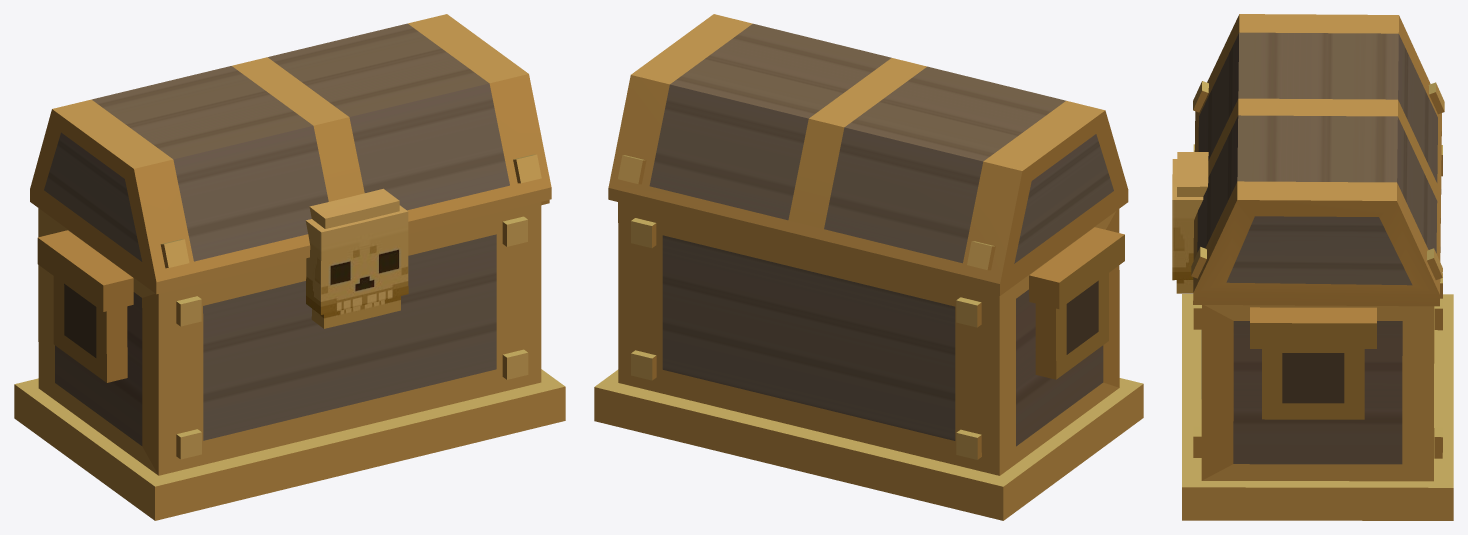
The model's file is chest.glb.
The picture shows the model from 3 angles, left to right: view 1: azimuth 30°, elevation 25°; view 2: azimuth 150°, elevation 25°; view 3: azimuth 270°, elevation 25°; orthographic projection. The views are drawn at different scales.
Visible parts, largest first — view 1: SD_Prop_Chest_Skull_01, SD_Prop_Chest_Skull_Lid_01; view 2: SD_Prop_Chest_Skull_01, SD_Prop_Chest_Skull_Lid_01; view 3: SD_Prop_Chest_Skull_Lid_01, SD_Prop_Chest_Skull_01.
Boxes of the visible parts, bbox=[...] form: SD_Prop_Chest_Skull_01: bbox=[14, 200, 565, 520]; SD_Prop_Chest_Skull_Lid_01: bbox=[30, 14, 551, 328]; SD_Prop_Chest_Skull_01: bbox=[594, 202, 1143, 520]; SD_Prop_Chest_Skull_Lid_01: bbox=[608, 14, 1128, 295]; SD_Prop_Chest_Skull_Lid_01: bbox=[1172, 14, 1444, 306]; SD_Prop_Chest_Skull_01: bbox=[1182, 144, 1453, 520].
Bounding box in the file's own units: 1.4 × 0.9885 × 0.7939.
1 material, 1 textured.
